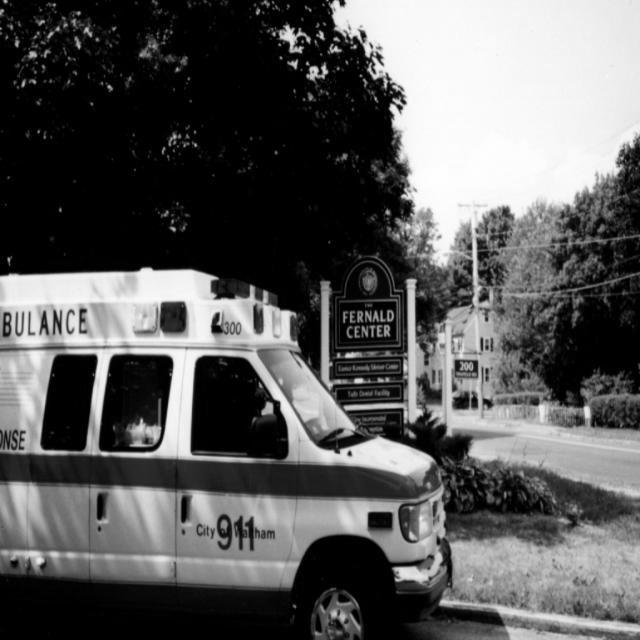Ambulance: (0, 270, 452, 640)
